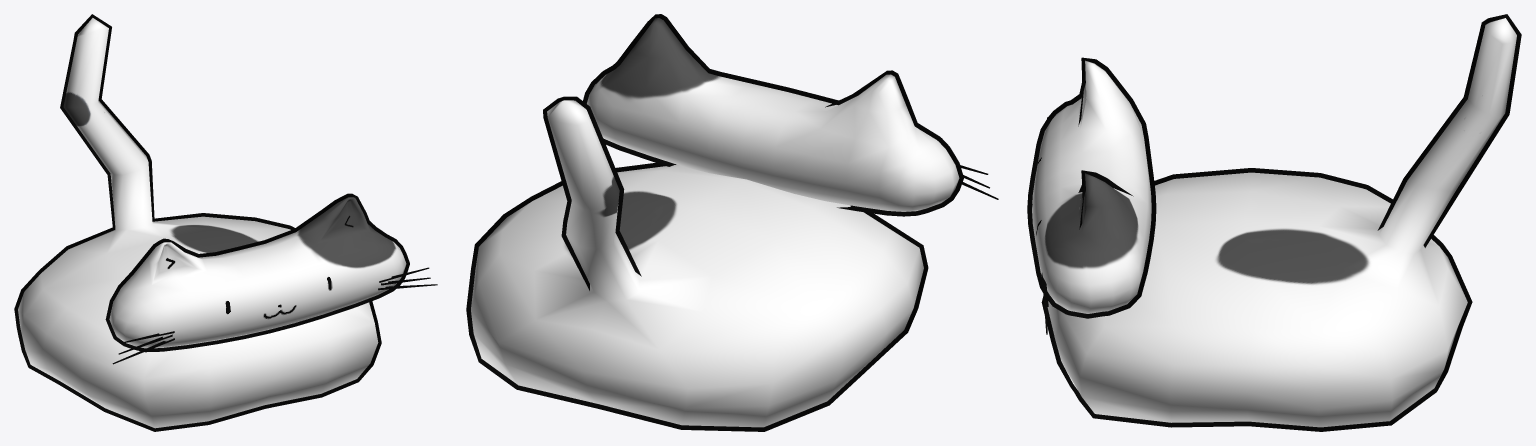
Rendered from gainen_fixed.fbx.
The picture shows the model from 3 angles, left to right: view 1: azimuth 30°, elevation 25°; view 2: azimuth 150°, elevation 25°; view 3: azimuth 270°, elevation 25°; orthographic projection. The views are drawn at different scales.
Parts seen in each view (by area): view 1: Body, hige; view 2: Body; view 3: Body.
Part boxes in pixels (x1,y1,x2,y2): Body: (14,14,409,431); hige: (112,267,437,364); Body: (466,14,963,431); Body: (1027,14,1521,431).
Bounding box in the file's own units: 302 × 242 × 317.
